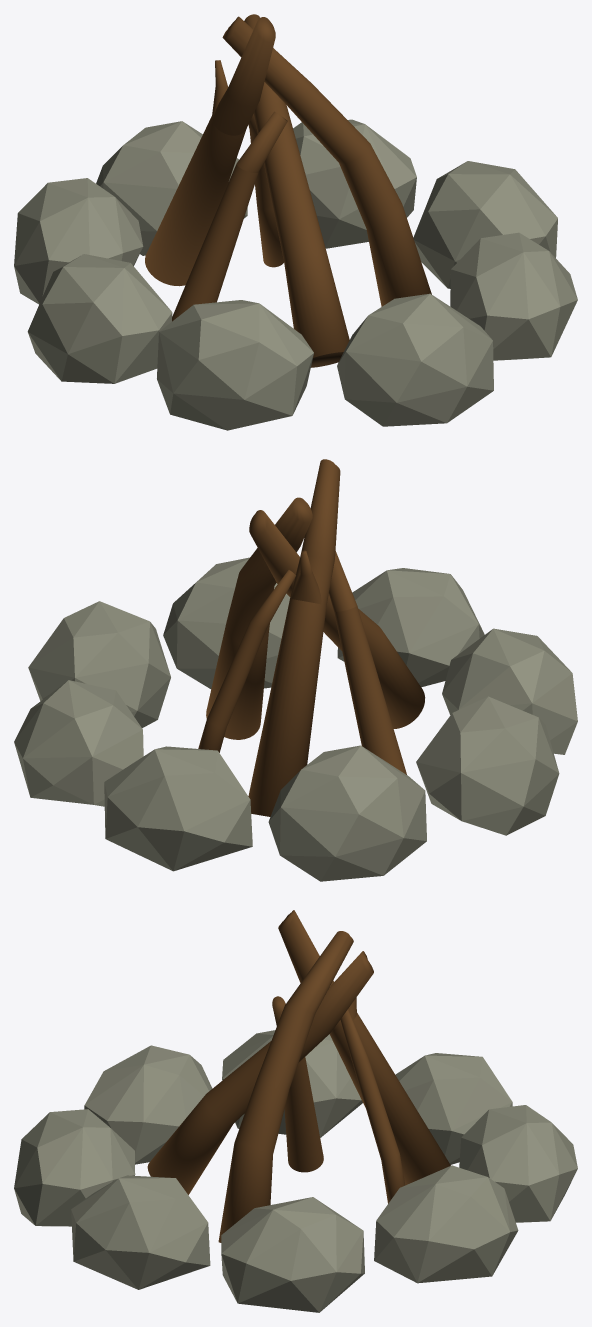
File: Bonfire.fbx
3 views of the same model, one above another, from view 1: azimuth 30°, elevation 25°; view 2: azimuth 150°, elevation 25°; view 3: azimuth 270°, elevation 25° (orthographic). The views are drawn at different scales.
Visible parts, largest first — view 1: Fire; view 2: Fire; view 3: Fire.
Part boxes in pixels (x1=…): Fire: x1=14, y1=14, x2=577, y2=430; Fire: x1=14, y1=459, x2=577, y2=881; Fire: x1=14, y1=910, x2=577, y2=1312.
Size of the model in its own units: 181 by 110 by 191.
